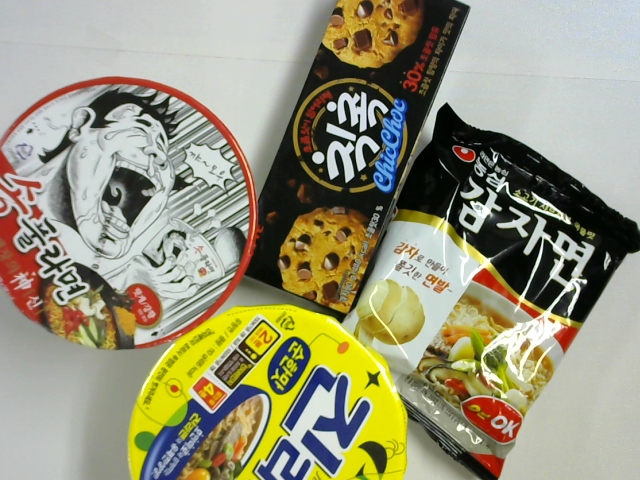Chicchok_Original_2400: (238, 1, 471, 314)
Hejangpul: (1, 76, 257, 352)
Jinlamyeon_Mild_Taste_Large_Cup: (126, 304, 409, 480)
Potato: (334, 103, 637, 480)
